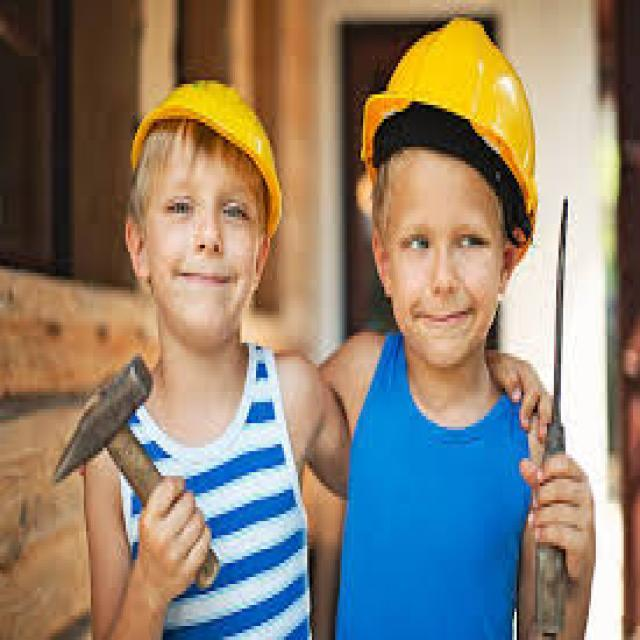hammer: (43, 349, 220, 592)
